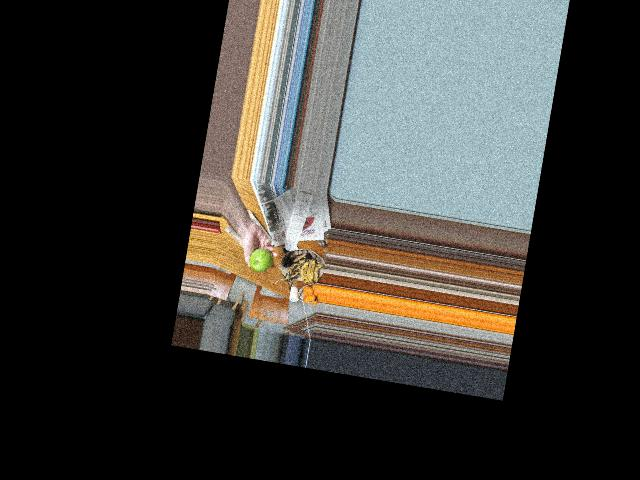apple: (247, 245, 274, 273)
